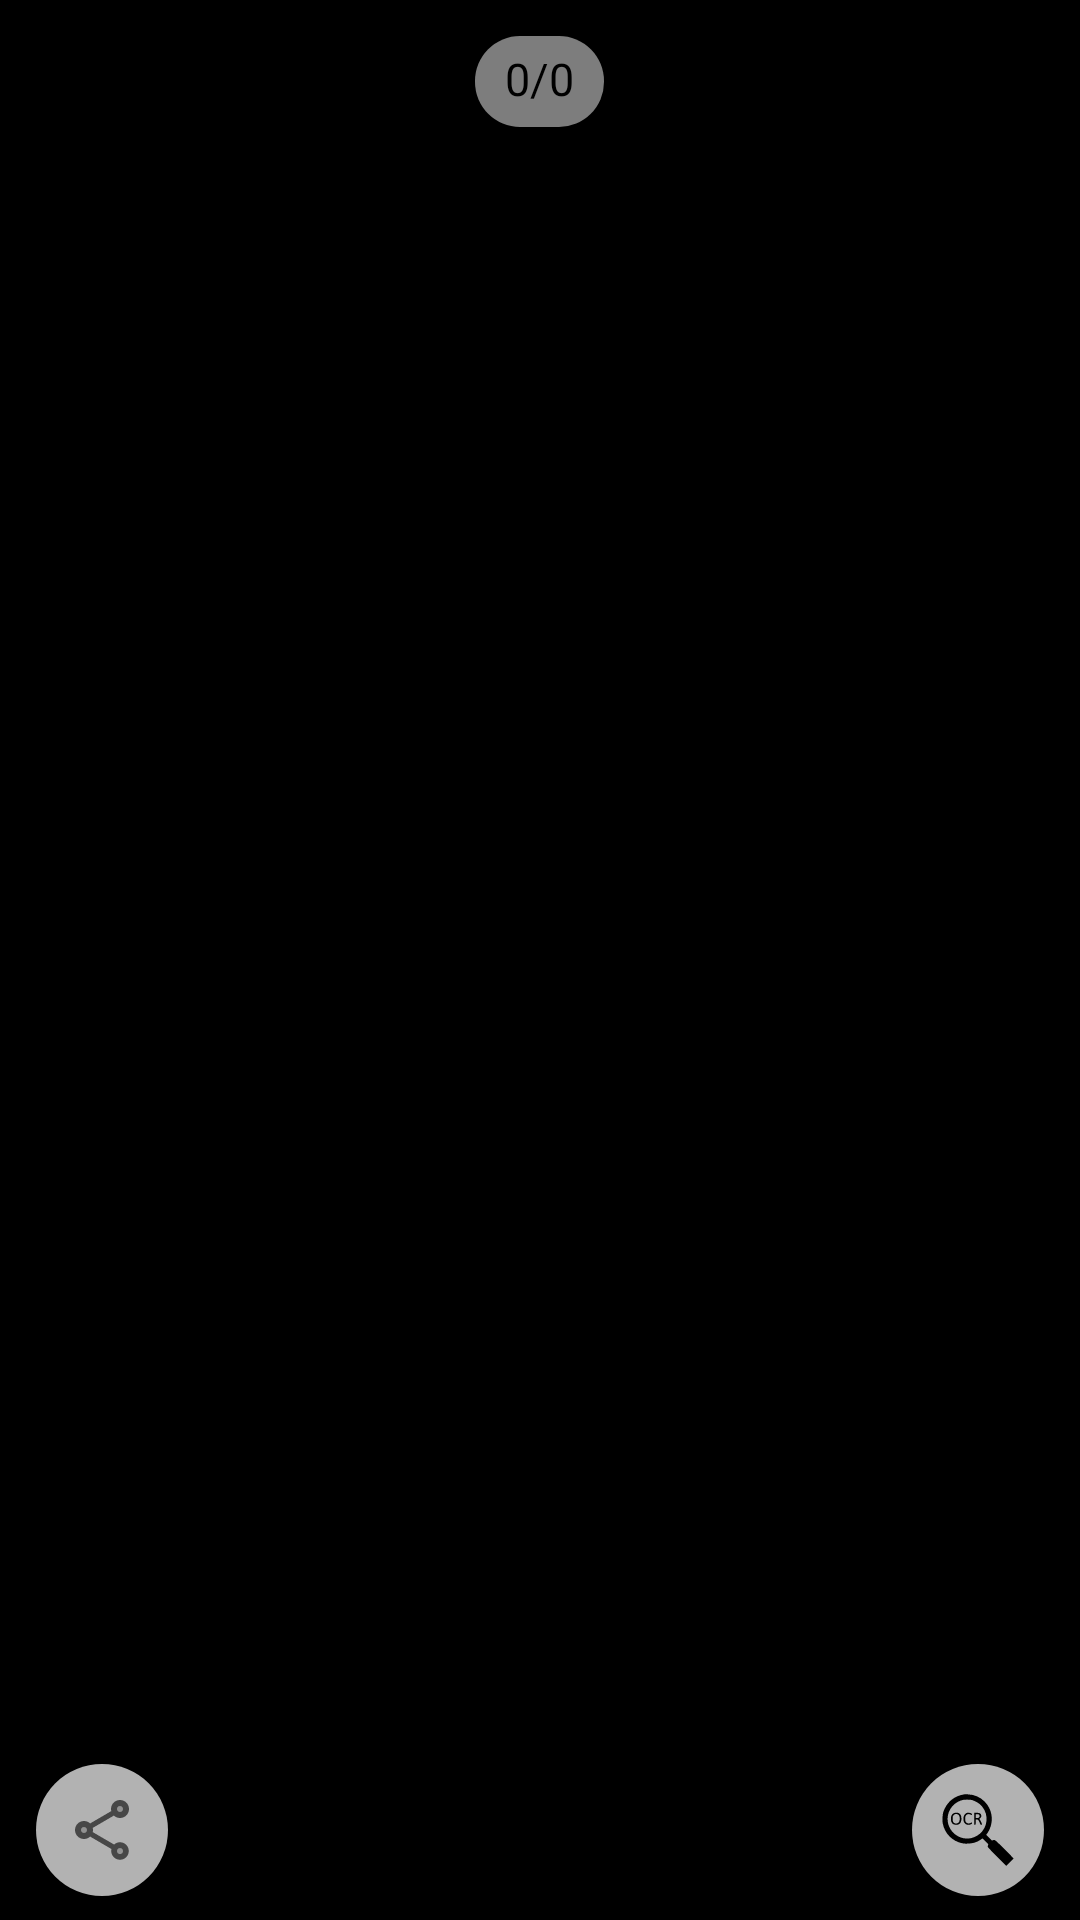

Screen size 1080w x 1920h. Icon name, then its center in pixels as point (x, y):
share: point (102, 1830)
